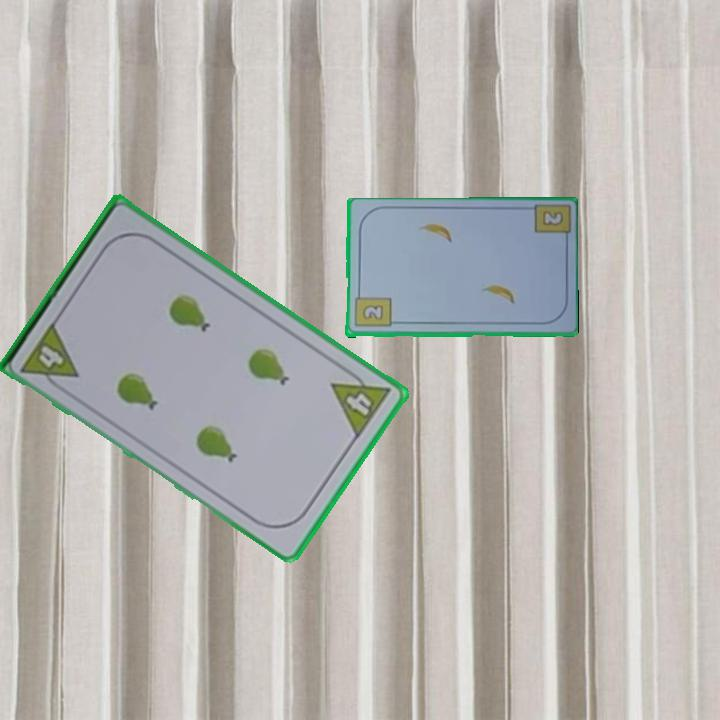2b: (351, 288, 393, 330), (541, 210, 564, 227)
4p: (327, 362, 394, 442), (17, 318, 82, 396)
